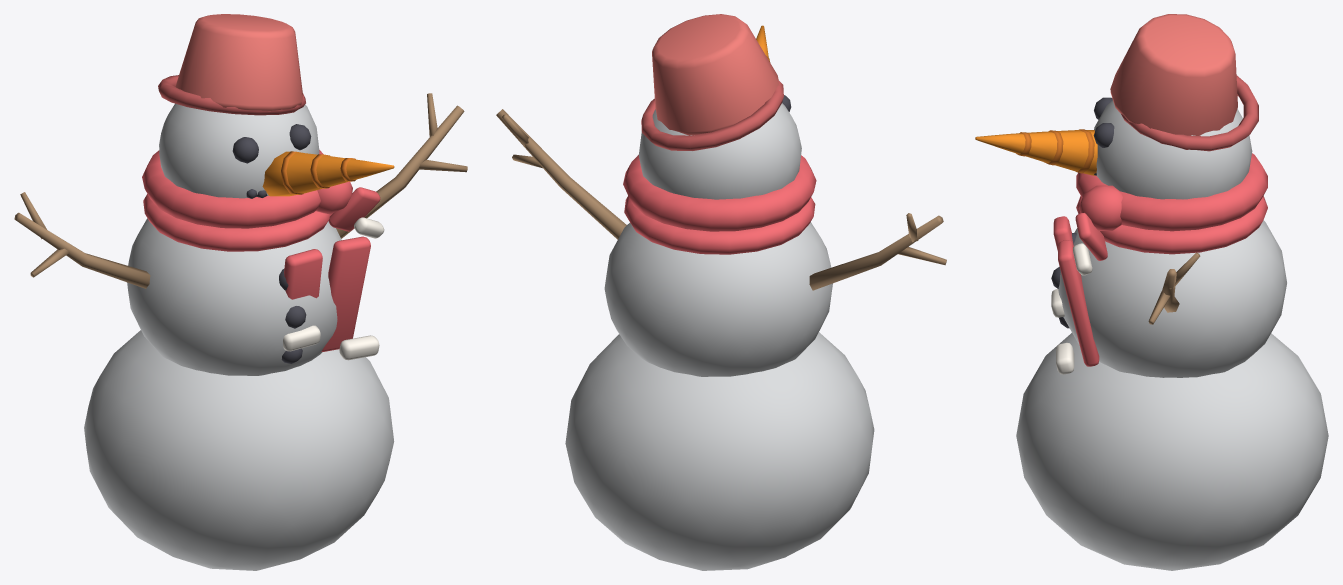
File: snowman.glb
The picture shows the model from 3 angles, left to right: view 1: azimuth 30°, elevation 25°; view 2: azimuth 150°, elevation 25°; view 3: azimuth 270°, elevation 25°; orthographic projection.
Visible parts, largest first — view 1: BallLow, BallMid, Bucket, HeadBall, ScarfTail, HeadScarf, Scarf, Nose, ArmL, ScarfKnot, ArmR, BucketRim; view 2: BallLow, BallMid, Bucket, HeadBall, HeadScarf, Scarf, BucketRim, ArmR, ArmL; view 3: BallLow, BallMid, Bucket, HeadBall, HeadScarf, Scarf, ScarfTail, Nose, ScarfKnot, BucketRim, ArmR.
Boxes of the visible parts, box(x1,y1,x2,y2) form: BallLow: box(84, 330, 394, 570); BallMid: box(127, 218, 341, 375); Bucket: box(175, 14, 302, 111); HeadBall: box(159, 103, 319, 198); ScarfTail: box(283, 236, 379, 360); HeadScarf: box(142, 150, 323, 228); Scarf: box(143, 194, 332, 251); Nose: box(262, 151, 394, 196); ArmL: box(14, 192, 150, 288); ScarfKnot: box(316, 181, 384, 238); ArmR: box(336, 93, 467, 238); BucketRim: box(158, 75, 305, 115); BallLow: box(565, 332, 874, 570); BallMid: box(604, 222, 832, 376); Bucket: box(652, 14, 779, 135); HeadBall: box(638, 103, 801, 199); HeadScarf: box(623, 155, 816, 231); Scarf: box(624, 196, 815, 254); BucketRim: box(641, 80, 783, 150); ArmR: box(496, 109, 626, 239); ArmL: box(809, 213, 946, 290); BallLow: box(1016, 333, 1328, 570); BallMid: box(1058, 220, 1286, 377); Bucket: box(1110, 14, 1237, 135); HeadBall: box(1094, 100, 1252, 199); HeadScarf: box(1076, 153, 1267, 231); Scarf: box(1076, 196, 1267, 254); ScarfTail: box(1051, 216, 1099, 374); Nose: box(975, 129, 1097, 175); ScarfKnot: box(1073, 185, 1122, 275); BucketRim: box(1121, 75, 1258, 151); ArmR: box(1148, 252, 1200, 324).
Bounding box in the file's own units: 1.98 × 2.25 × 1.36.
